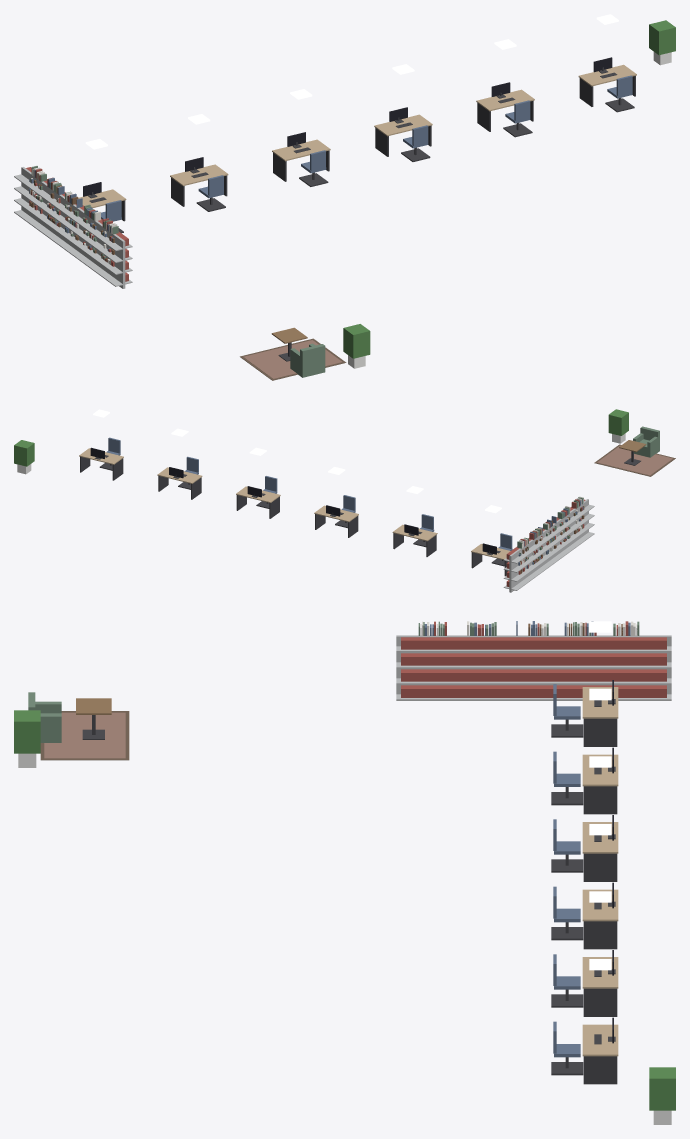
The model's file is fine-s1.glb.
3 views of the same model, one above another, from view 1: azimuth 30°, elevation 25°; view 2: azimuth 150°, elevation 25°; view 3: azimuth 270°, elevation 25° (orthographic). The views are drawn at different scales.
Parts seen in each view (by area): view 1: soft-s1, shelving.004, shelving.000, office-desk-real.005, office-desk-real.004, office-desk-real.002, office-desk-real.003, office-desk-real.001, shelving.002, plant-medium.000, sofa.000, plant-medium.001 (+8 smaller); view 2: soft-s1, shelving.000, office-desk-real.005, office-desk-real.003, shelving.002, office-desk-real.001, office-desk-real.004, office-desk-real.002, shelving.001, shelving.004, shelving.003, plant-medium.001 (+4 smaller); view 3: soft-s1, shelving.000, shelving.004, shelving.003, shelving.002, shelving.001, office-desk-real.005, office-desk-real.001, office-desk-real.003, office-desk-real.000, office-desk-real.002, office-desk-real.004 (+10 smaller).
Boxes of the visible parts, x1=… form: soft-s1: x1=29, y1=166, x2=346, y2=380; shelving.004: x1=86, y1=219, x2=132, y2=288; shelving.000: x1=14, y1=167, x2=50, y2=233; office-desk-real.005: x1=578, y1=57, x2=636, y2=106; office-desk-real.004: x1=476, y1=82, x2=534, y2=131; office-desk-real.002: x1=272, y1=132, x2=330, y2=181; office-desk-real.003: x1=374, y1=107, x2=432, y2=156; office-desk-real.001: x1=170, y1=157, x2=228, y2=206; shelving.002: x1=50, y1=194, x2=86, y2=260; plant-medium.000: x1=343, y1=324, x2=370, y2=368; sofa.000: x1=290, y1=343, x2=325, y2=377; plant-medium.001: x1=649, y1=20, x2=675, y2=65; soft-s1: x1=517, y1=444, x2=675, y2=574; shelving.000: x1=503, y1=539, x2=538, y2=592; office-desk-real.005: x1=79, y1=447, x2=123, y2=480; office-desk-real.003: x1=236, y1=486, x2=280, y2=518; shelving.002: x1=539, y1=519, x2=566, y2=570; office-desk-real.001: x1=392, y1=524, x2=437, y2=556; office-desk-real.004: x1=157, y1=467, x2=202, y2=499; office-desk-real.002: x1=314, y1=505, x2=358, y2=537; shelving.001: x1=525, y1=529, x2=552, y2=580; shelving.004: x1=567, y1=499, x2=594, y2=543; shelving.003: x1=553, y1=509, x2=580, y2=559; plant-medium.001: x1=14, y1=440, x2=34, y2=474; soft-s1: x1=40, y1=621, x2=639, y2=760; shelving.000: x1=591, y1=635, x2=671, y2=700; shelving.004: x1=396, y1=635, x2=476, y2=700; shelving.003: x1=445, y1=635, x2=524, y2=700; shelving.002: x1=494, y1=635, x2=573, y2=700; shelving.001: x1=543, y1=635, x2=622, y2=700; office-desk-real.005: x1=582, y1=1017, x2=618, y2=1084; office-desk-real.001: x1=582, y1=747, x2=618, y2=814; office-desk-real.003: x1=582, y1=882, x2=618, y2=949; office-desk-real.000: x1=582, y1=680, x2=618, y2=746; office-desk-real.002: x1=582, y1=815, x2=618, y2=881; office-desk-real.004: x1=582, y1=950, x2=618, y2=1016.
Bounding box in the file's own units: 23.04 × 2.64 × 14.92.
